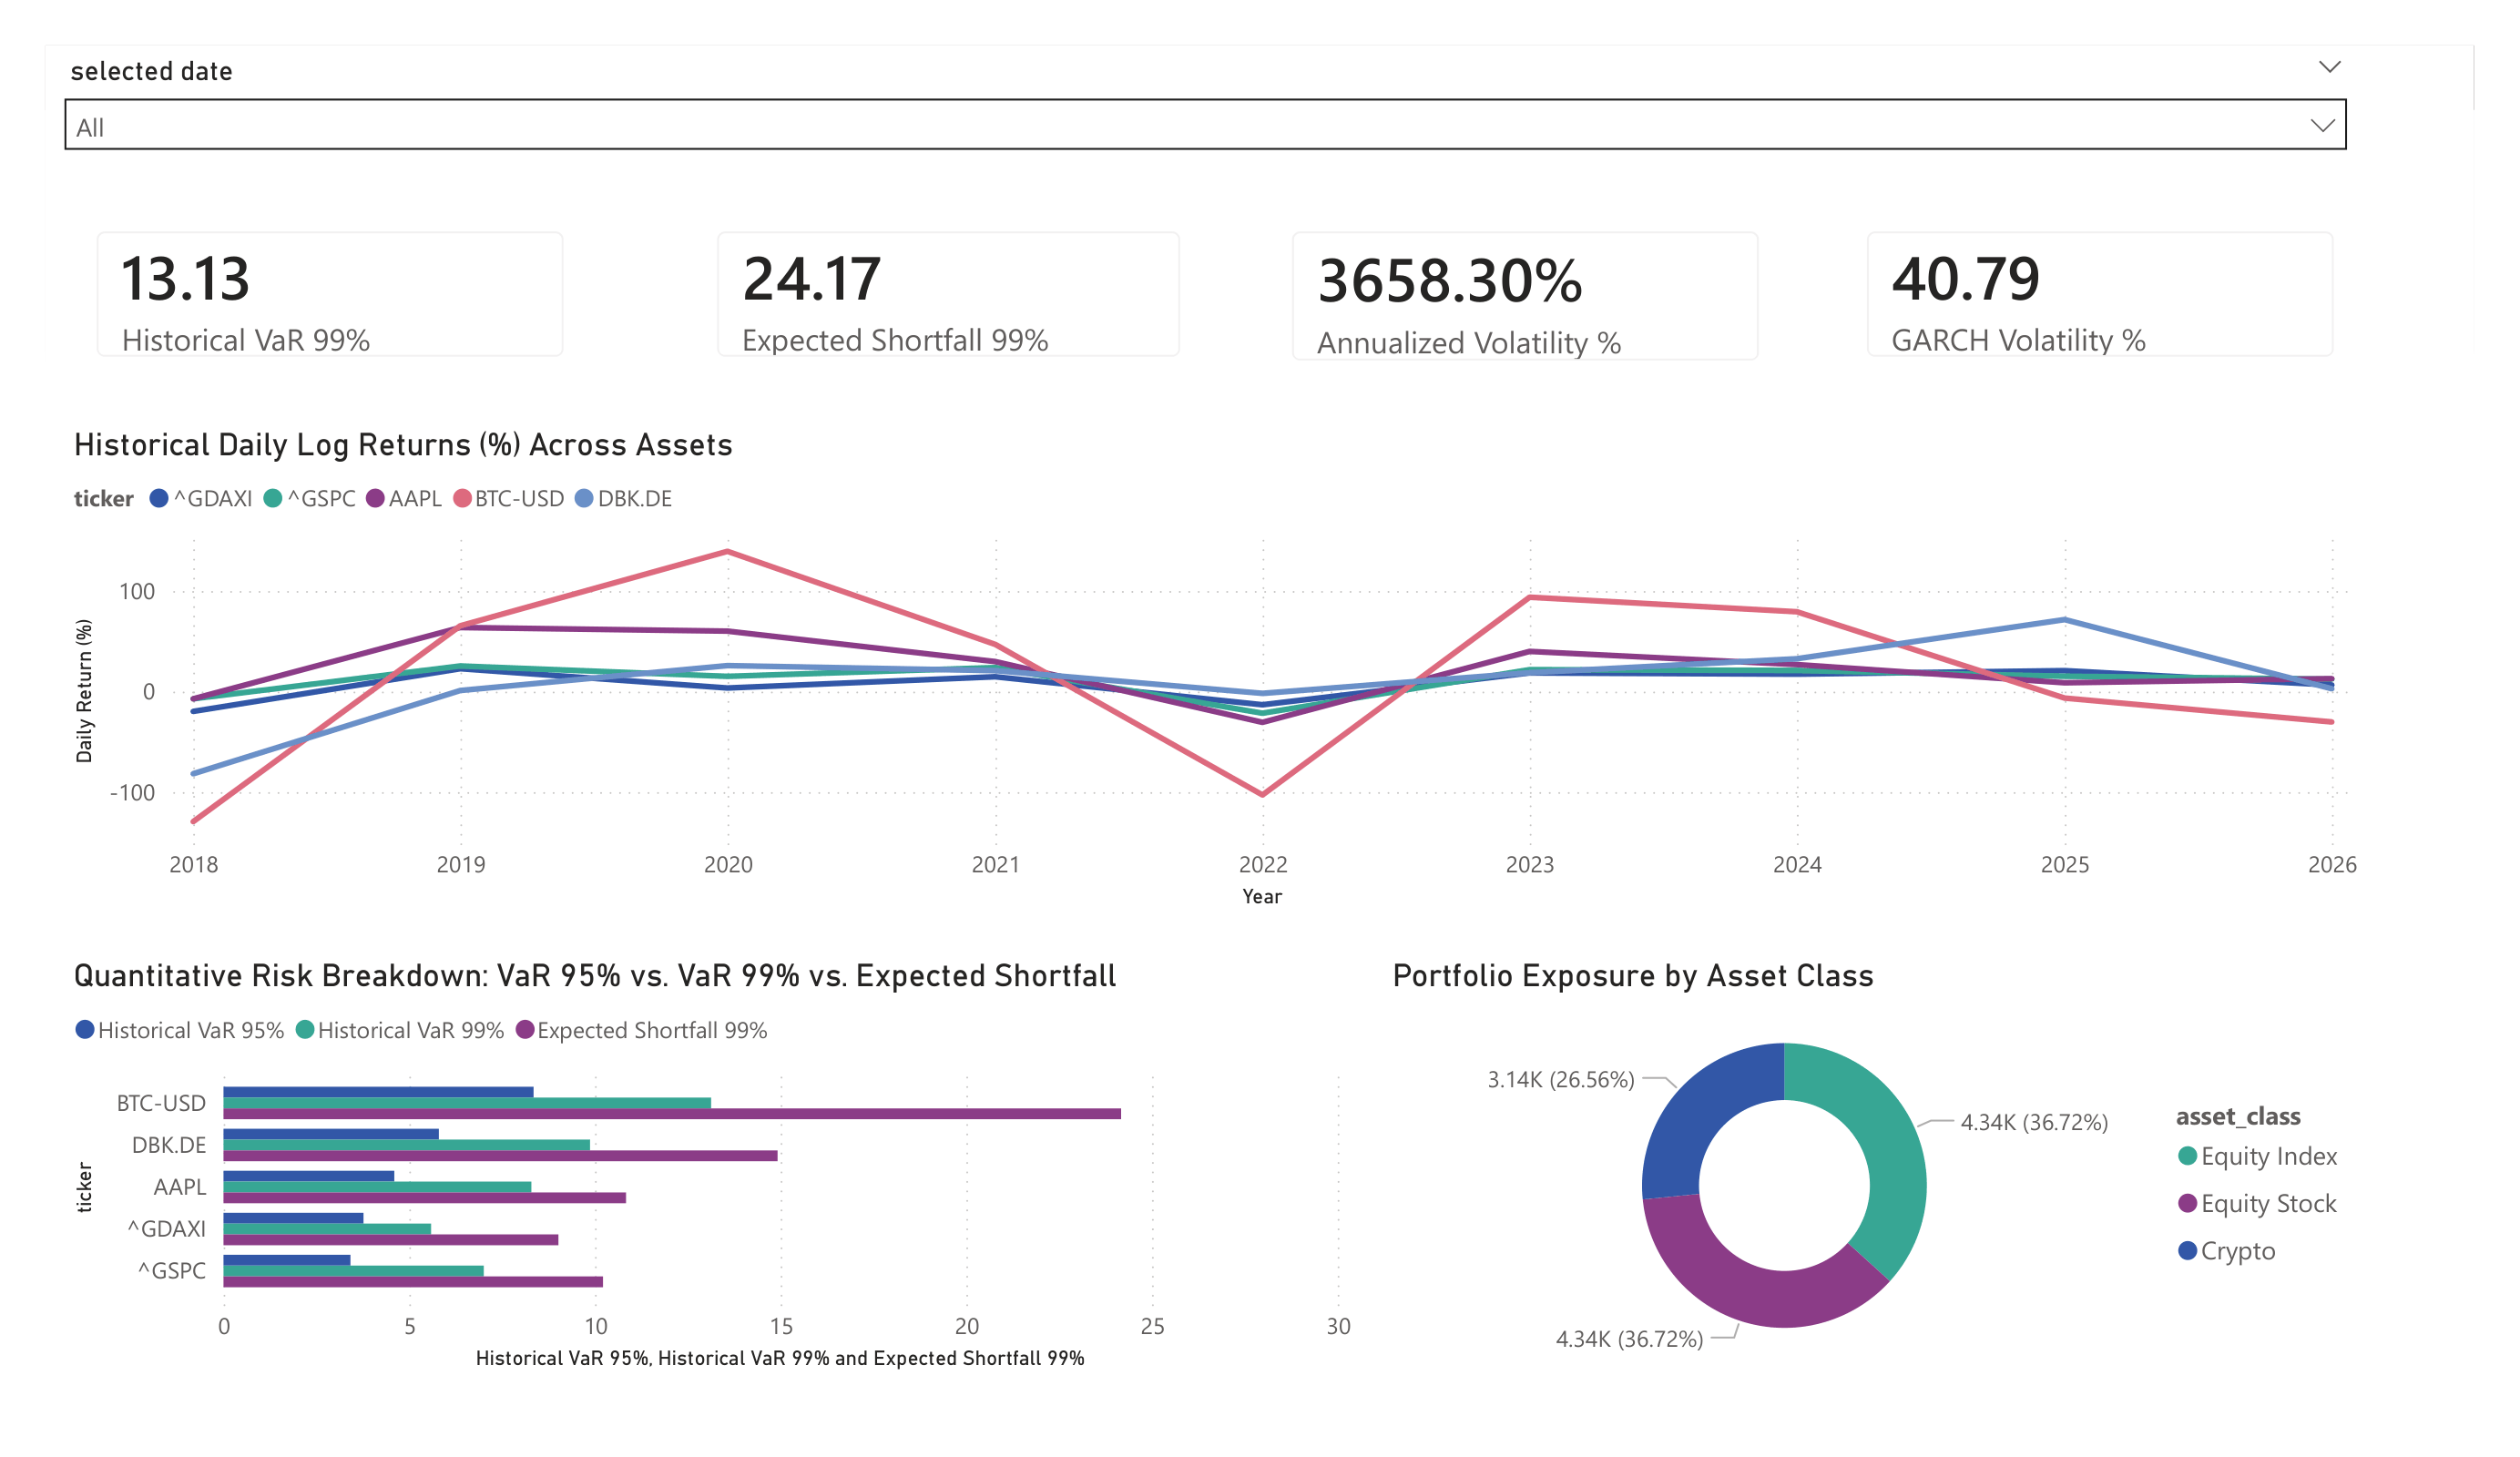

The dashboard page shown, as its layout file describes it:
{"tool":"powerbi","page":{"name":"1. Portfolio Risk Overview","canvas":[1280,720],"ordinal":0},"visuals":[{"type":"cardVisual","title":"1-Day Historical VaR (99%)","fields":{"Data":["_Key Risk Measures.Historical VaR 99%"]},"box":[10,61.7,280,120],"z":0},{"type":"cardVisual","title":"1-Day Expected Shortfall (99%)","fields":{"Data":["_Key Risk Measures.Expected Shortfall 99%"]},"box":[336.7,61.7,278.3,120],"z":1000},{"type":"cardVisual","title":"Annualized Volatility","fields":{"Data":["_Key Risk Measures.Annualized Volatility %"]},"box":[640,61.7,280,121.7],"z":2000},{"type":"cardVisual","title":"1-Day Dynamic GARCH Volatility","fields":{"Data":["_Key Risk Measures.GARCH Volatility %"]},"box":[943.3,61.7,280,120],"z":3000},{"type":"lineChart","title":"Historical Daily Log Returns (%) Across Assets","fields":{"Category":["vw_daily_market_overview.price_date.Variation.Date Hierarchy.Year","vw_daily_market_overview.price_date.Variation.Date Hierarchy.Quarter","vw_daily_market_overview.price_date.Variation.Date Hierarchy.Month","vw_daily_market_overview.price_date.Variation.Date Hierarchy.Day"],"Y":["Sum(vw_daily_market_overview.return_pct)"],"Series":["vw_daily_market_overview.ticker"]},"box":[10,200,1213.3,260],"z":4000},{"type":"clusteredBarChart","title":"Quantitative Risk Breakdown: VaR 95% vs. VaR 99% vs. Expected Shortfall","fields":{"Category":["vw_portfolio_risk_summary.ticker"],"Y":["_Key Risk Measures.Historical VaR 95%","_Key Risk Measures.Historical VaR 99%","_Key Risk Measures.Expected Shortfall 99%"]},"box":[10,480,683.3,223.3],"z":5000},{"type":"donutChart","title":"Portfolio Exposure by Asset Class","fields":{"Category":["vw_daily_market_overview.asset_class"],"Y":["CountNonNull(vw_daily_market_overview.ticker)"]},"box":[705,480,518.3,223.3],"z":6000},{"type":"slicer","fields":{"Values":["vw_daily_market_overview.price_date"]},"box":[0,0,1223.3,93.3],"z":7000}]}

Visuals, with their boxes on the page's 1280x720 design canvas (x1, y1, x2, y2). These are canvas units, not pixel positions in the 2520x1457 screenshot, which may show the page scaled, cropped or inside an application window:
"1-Day Historical VaR (99%)" cardVisual: rect(10, 62, 290, 182)
"1-Day Expected Shortfall (99%)" cardVisual: rect(337, 62, 615, 182)
"Annualized Volatility" cardVisual: rect(640, 62, 920, 183)
"1-Day Dynamic GARCH Volatility" cardVisual: rect(943, 62, 1223, 182)
"Historical Daily Log Returns (%) Across Assets" lineChart: rect(10, 200, 1223, 460)
"Quantitative Risk Breakdown: VaR 95% vs. VaR 99% vs. Expected Shortfall" clusteredBarChart: rect(10, 480, 693, 703)
"Portfolio Exposure by Asset Class" donutChart: rect(705, 480, 1223, 703)
slicer - vw_daily_market_overview.price_date: rect(0, 0, 1223, 93)
